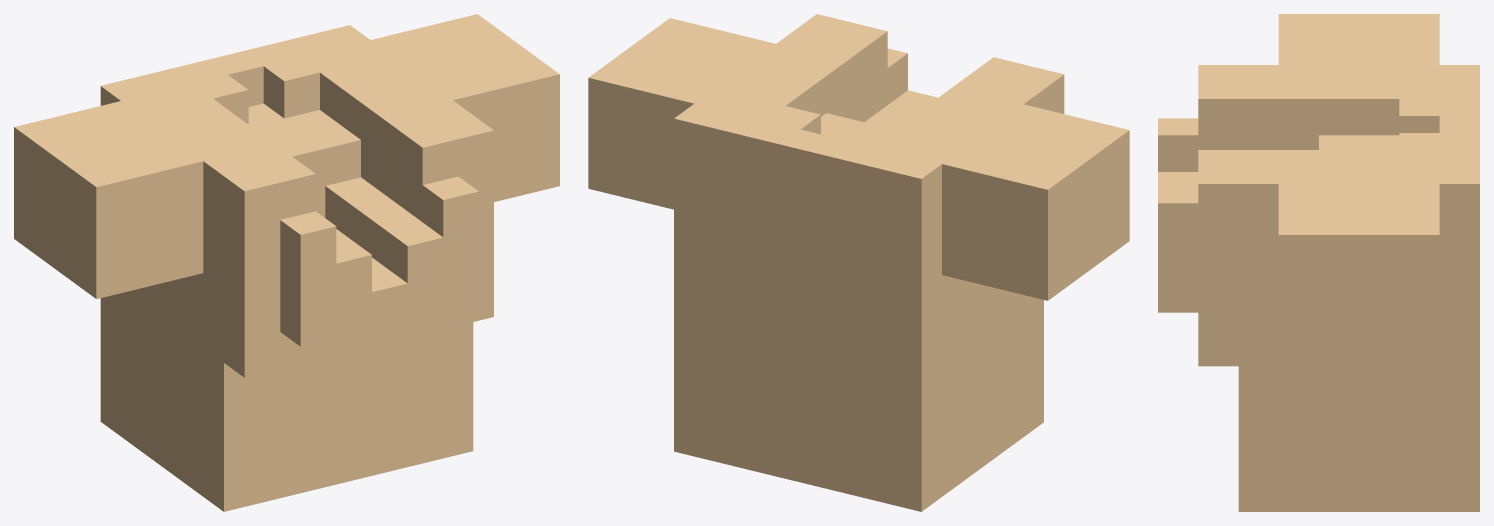
File: Matrix_20.fbx
3 renders of one model, left to right at view 1: azimuth 30°, elevation 25°; view 2: azimuth 150°, elevation 25°; view 3: azimuth 270°, elevation 25°, orthographic. The views are drawn at different scales.
Parts seen in each view (by area): view 1: Matrix_20; view 2: Matrix_20; view 3: Matrix_20.
Part boxes in pixels (x1=…): Matrix_20: x1=14, y1=14, x2=559, y2=511; Matrix_20: x1=588, y1=14, x2=1129, y2=511; Matrix_20: x1=1158, y1=14, x2=1479, y2=511.
Size of the model in its own units: 13 by 9 by 8.
Materials: 1 (1 with a texture image).
